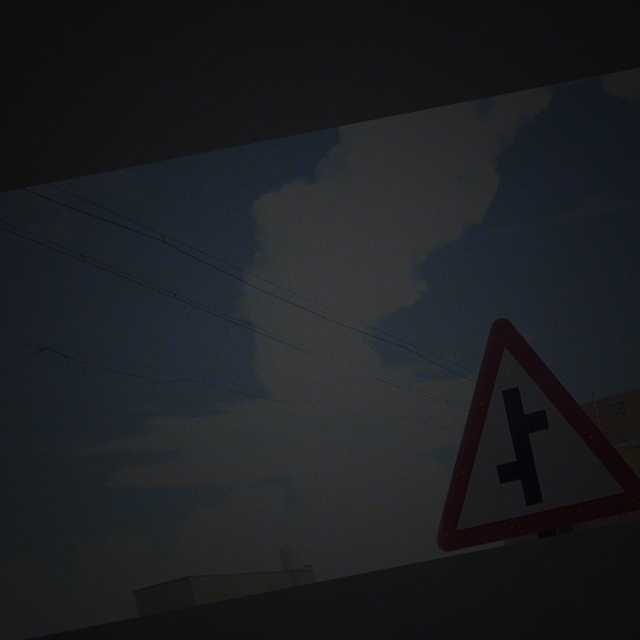Staggered_Intersection: (383, 298, 639, 548)
